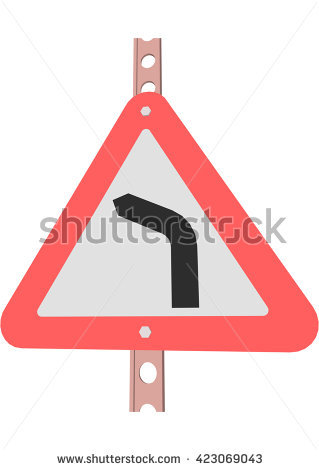Bend_to_left: (1, 91, 319, 357)
